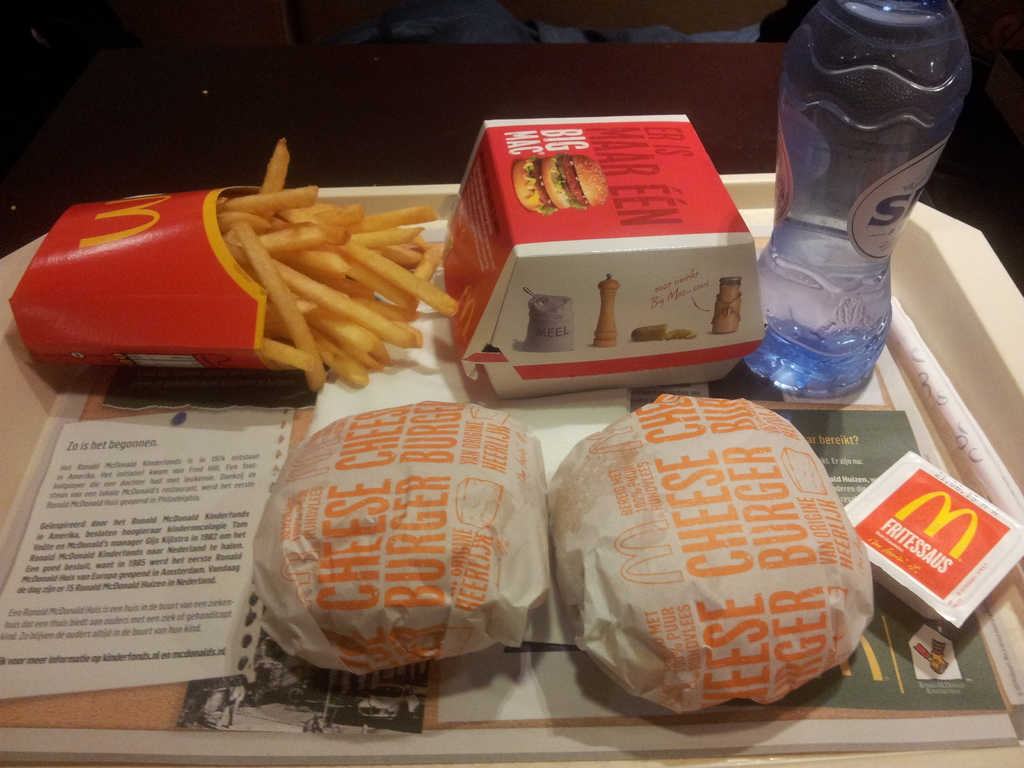French fries: (147, 157, 439, 392)
